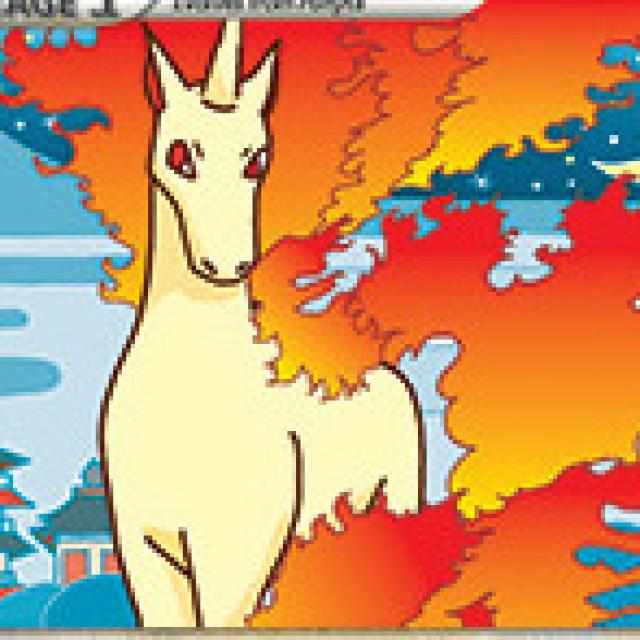Rapidash: (108, 21, 438, 632)
